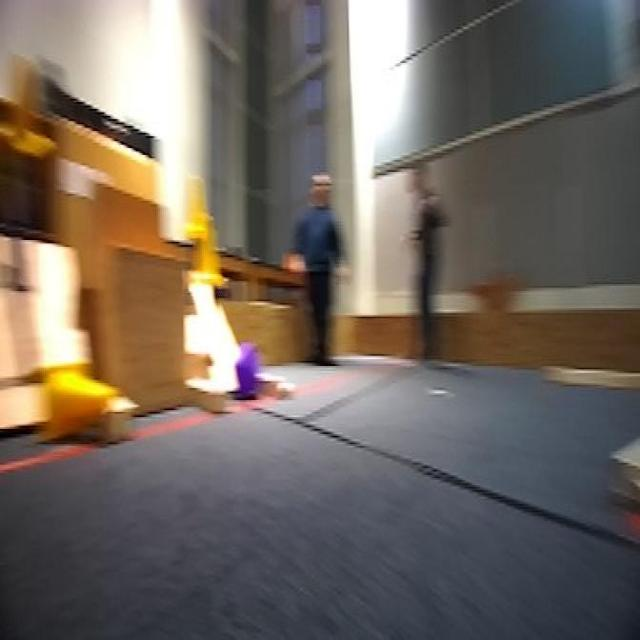frc_cone: (47, 363, 116, 444), (195, 213, 228, 284), (190, 182, 214, 235)
frc_cube: (234, 349, 262, 393)
